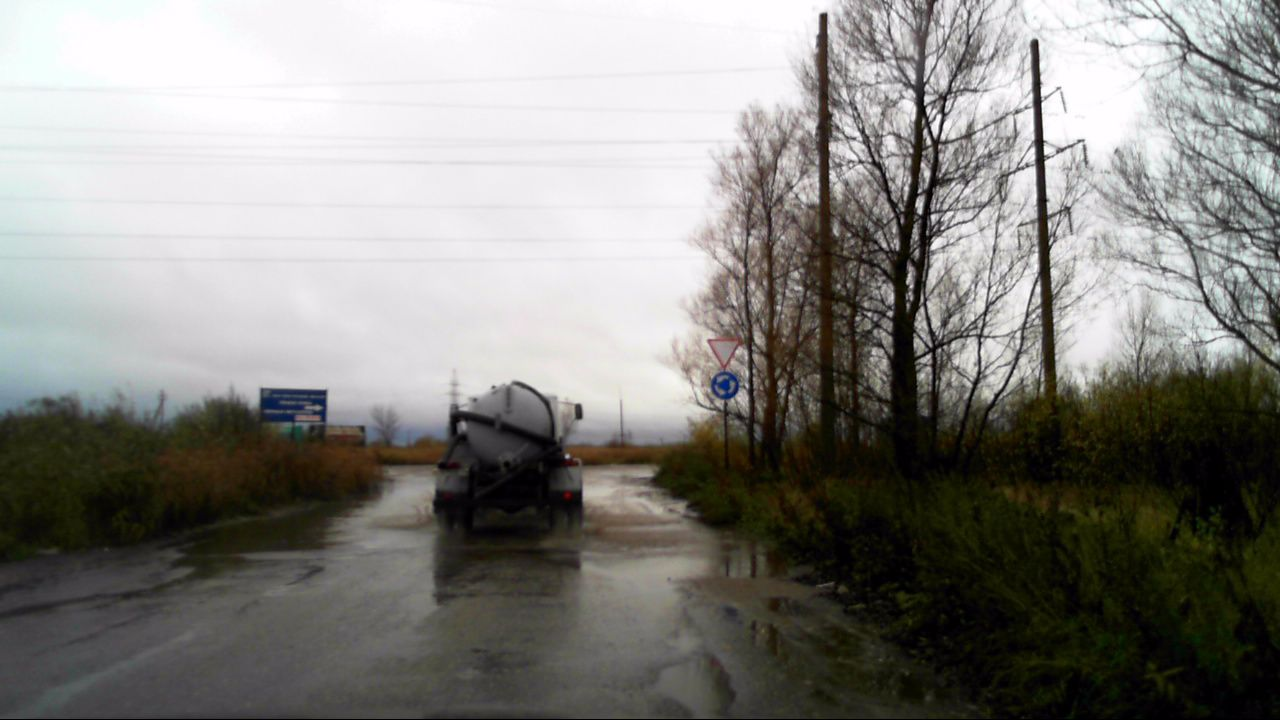Round-About: (711, 372, 741, 401)
